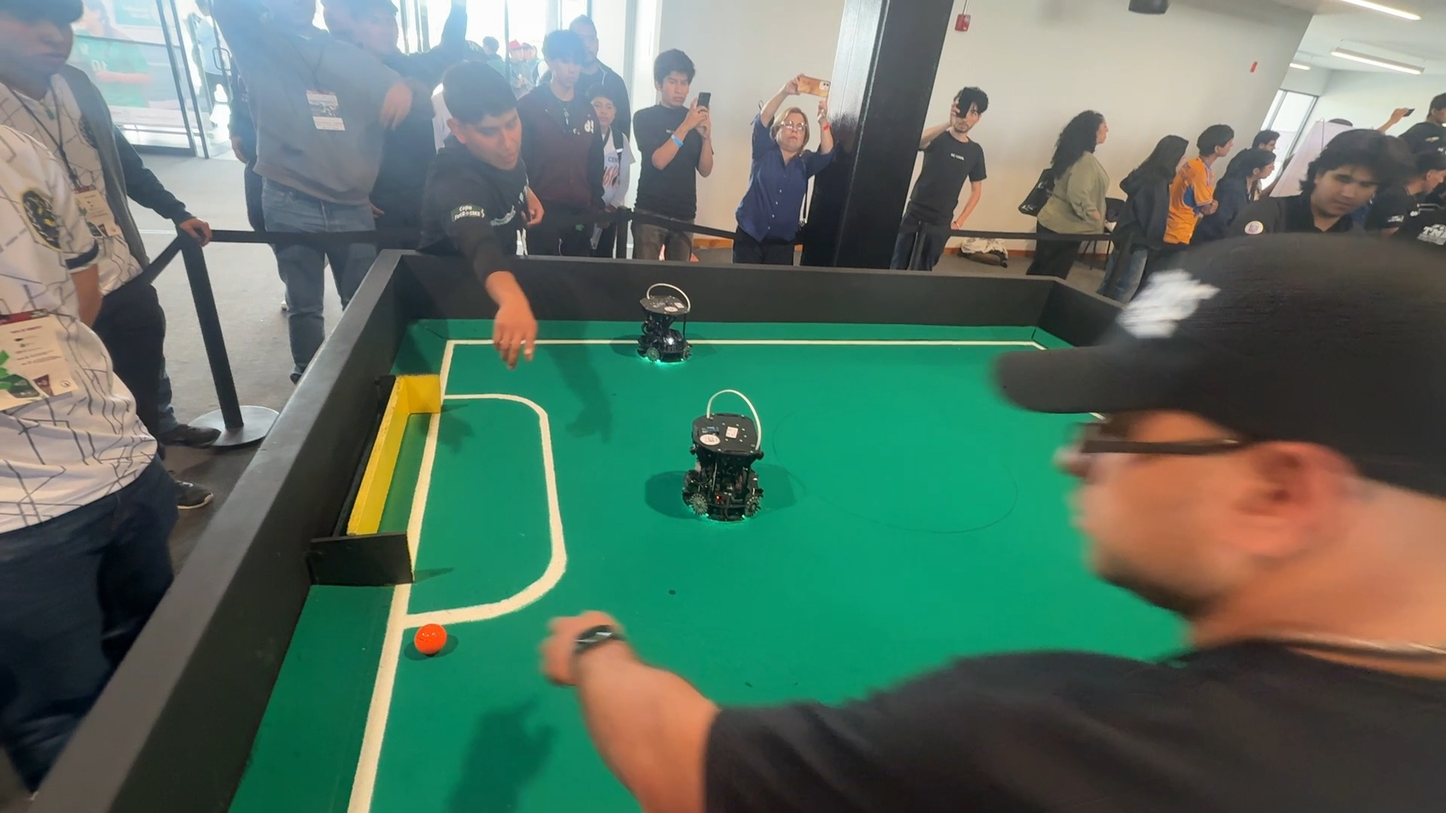Robot: (659, 388, 810, 542), (618, 282, 706, 375)
pelota: (408, 621, 458, 663)
